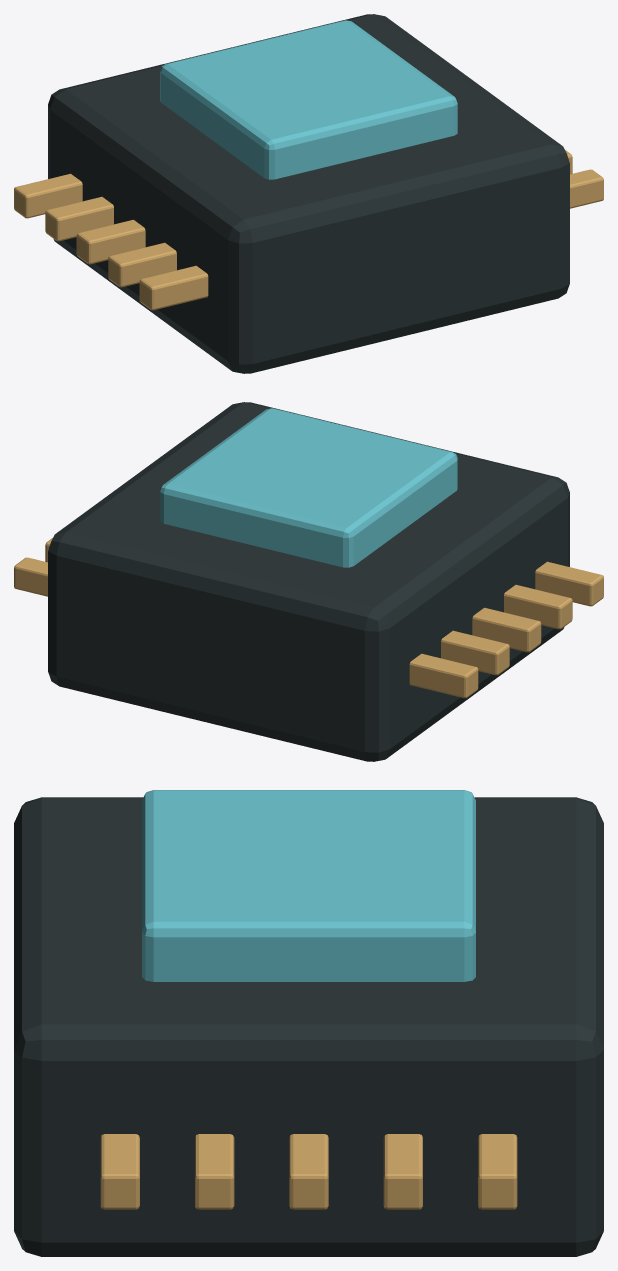
File: chip.glb
The picture shows the model from 3 angles, top to bottom: view 1: azimuth 30°, elevation 25°; view 2: azimuth 150°, elevation 25°; view 3: azimuth 270°, elevation 25°; orthographic projection. The views are drawn at different scales.
Parts seen in each view (by area): view 1: Chip carrier, Chip core, Chip pins, Chip pins.004, Chip pins.006, Chip pins.002, Chip pins.008, Chip pins.001; view 2: Chip carrier, Chip core, Chip pins.008, Chip pins.004, Chip pins.002, Chip pins.006, Chip pins, Chip pins.009; view 3: Chip carrier, Chip core, Chip pins.005, Chip pins.001, Chip pins.009, Chip pins.003, Chip pins.007.
Part boxes in pixels (box(x1,y1,x2,y2)): Chip carrier: box(48, 14, 569, 373); Chip core: box(160, 20, 457, 179); Chip pins: box(139, 265, 208, 310); Chip pins.004: box(76, 219, 145, 264); Chip pins.006: box(45, 196, 113, 241); Chip pins.002: box(108, 242, 176, 287); Chip pins.008: box(14, 173, 82, 218); Chip pins.001: box(570, 169, 603, 208); Chip carrier: box(48, 402, 569, 761); Chip core: box(160, 408, 457, 567); Chip pins.008: box(409, 653, 478, 698); Chip pins.004: box(472, 607, 541, 652); Chip pins.002: box(504, 584, 572, 629); Chip pins.006: box(441, 630, 509, 675); Chip pins: box(535, 561, 603, 606); Chip pins.009: box(14, 557, 47, 596); Chip carrier: box(14, 797, 603, 1256); Chip core: box(142, 790, 475, 981); Chip pins.005: box(289, 1134, 328, 1209); Chip pins.001: box(100, 1134, 139, 1209); Chip pins.009: box(478, 1134, 517, 1209); Chip pins.003: box(195, 1134, 234, 1209); Chip pins.007: box(383, 1134, 422, 1209).
Size of the model in its own units: 0.2 by 0.0805 by 0.15.
